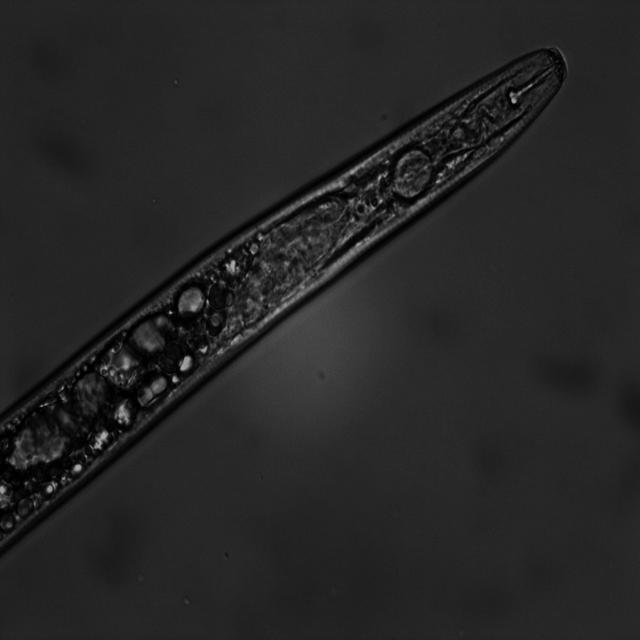Pratylenchus: (0, 34, 570, 569)
